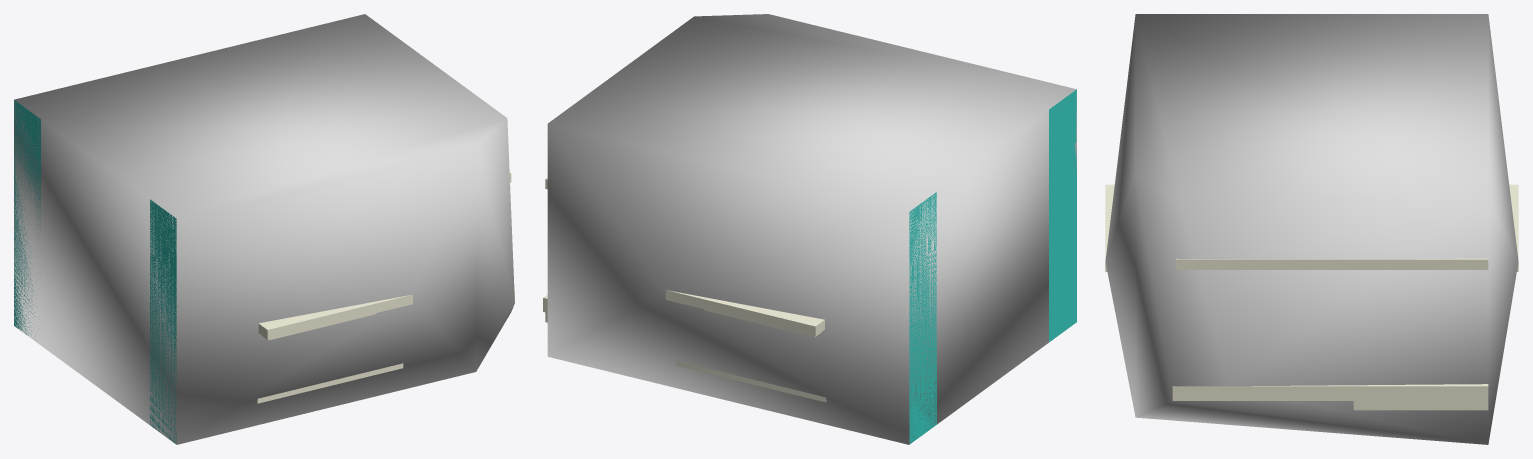
3 views of the same model, side by side, from view 1: azimuth 30°, elevation 25°; view 2: azimuth 150°, elevation 25°; view 3: azimuth 270°, elevation 25° (orthographic). The views are drawn at different scales.
Parts seen in each view (by area): view 1: struct_city_block_tall_tier2_b_01_col, struct_city_block_tall_tier2_b_01; view 2: struct_city_block_tall_tier2_b_01_col, struct_city_block_tall_tier2_b_01; view 3: struct_city_block_tall_tier2_b_01_col, struct_city_block_tall_tier2_b_01.
Part boxes in pixels (x1=…): struct_city_block_tall_tier2_b_01_col: x1=14, y1=14, x2=514, y2=444; struct_city_block_tall_tier2_b_01: x1=14, y1=100, x2=514, y2=444; struct_city_block_tall_tier2_b_01_col: x1=547, y1=14, x2=1076, y2=444; struct_city_block_tall_tier2_b_01: x1=543, y1=89, x2=1076, y2=444; struct_city_block_tall_tier2_b_01_col: x1=1105, y1=14, x2=1518, y2=444; struct_city_block_tall_tier2_b_01: x1=1105, y1=184, x2=1518, y2=410.
Bounding box in the file's own units: 9.13 × 5.55 × 8.48.
Materials: 1 (1 with a texture image).
